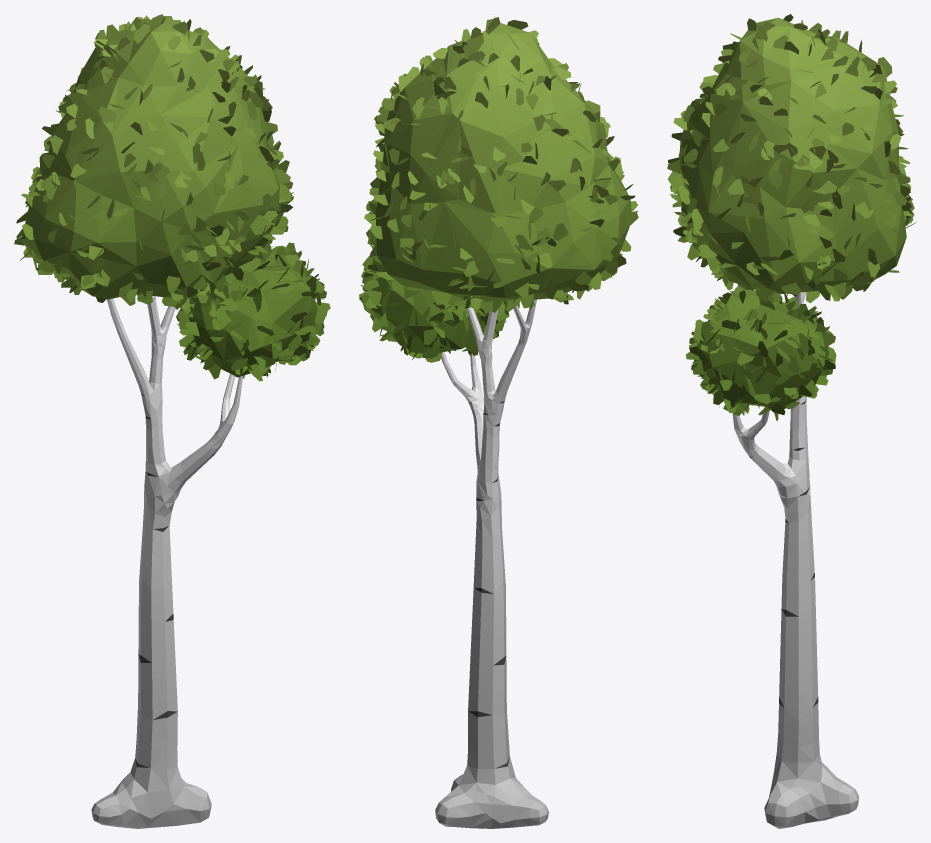
File: Tree_08.fbx
The picture shows the model from 3 angles, left to right: view 1: azimuth 30°, elevation 25°; view 2: azimuth 150°, elevation 25°; view 3: azimuth 270°, elevation 25°; orthographic projection. The views are drawn at different scales.
Parts seen in each view (by area): view 1: Tree_08_LOD0; view 2: Tree_08_LOD0; view 3: Tree_08_LOD0.
Boxes of the visible parts, box(x1,y1,x2,y2) form: Tree_08_LOD0: box(14, 14, 330, 828); Tree_08_LOD0: box(359, 14, 638, 828); Tree_08_LOD0: box(667, 14, 916, 828).
Size of what is drawn, in the model's own units: 3.31 by 9.42 by 2.67.
